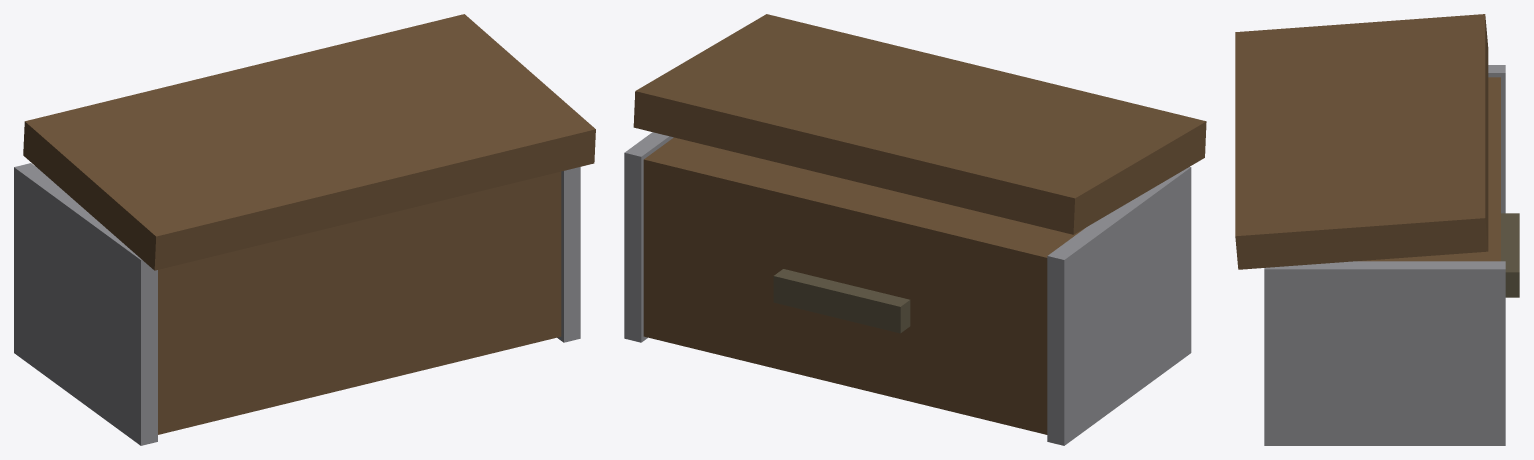
Rendered from ammo-crate.glb.
3 views of the same model, side by side, from view 1: azimuth 30°, elevation 25°; view 2: azimuth 150°, elevation 25°; view 3: azimuth 270°, elevation 25° (orthographic). The views are drawn at different scales.
Visible parts, largest first — view 1: Cube.001, Cube, Cube.002, Cube.003; view 2: Cube, Cube.001, Cube.002, Cube.004, Cube.003; view 3: Cube.001, Cube.003, Cube, Cube.004, Cube.002.
Part boxes in pixels (x1,y1,x2,y2): Cube.001: (23,14,595,270); Cube: (158,171,561,434); Cube.002: (14,163,157,445); Cube.003: (557,167,580,342); Cube: (643,137,1084,434); Cube.001: (633,14,1206,234); Cube.002: (1047,167,1191,445); Cube.004: (773,269,910,333); Cube.003: (624,132,673,342); Cube.001: (1235,14,1488,269); Cube.003: (1264,261,1505,445); Cube: (1358,77,1500,261); Cube.004: (1501,213,1519,297); Cube.002: (1488,65,1505,213).
Size of what is drawn, in the model's own units: 1.04 by 0.5414 by 0.6123.
